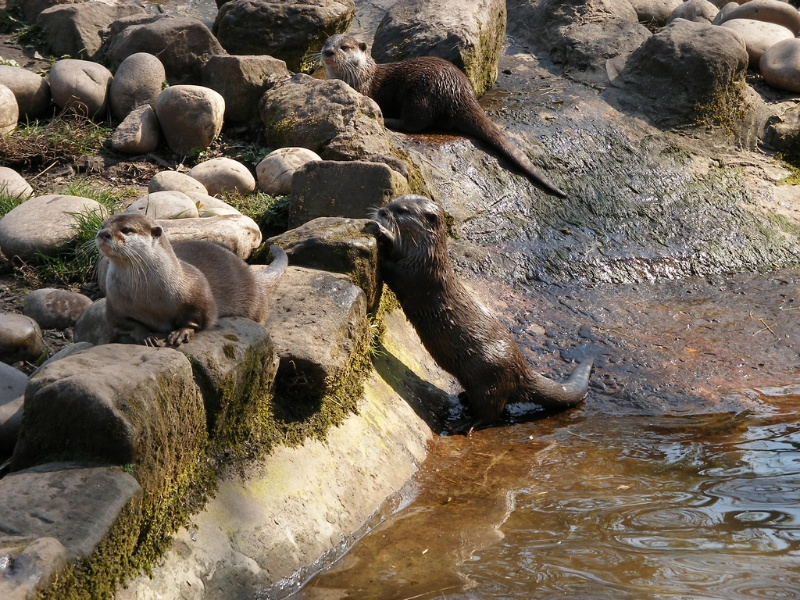minkish: (365, 194, 598, 432), (320, 31, 565, 201), (90, 212, 300, 354)
